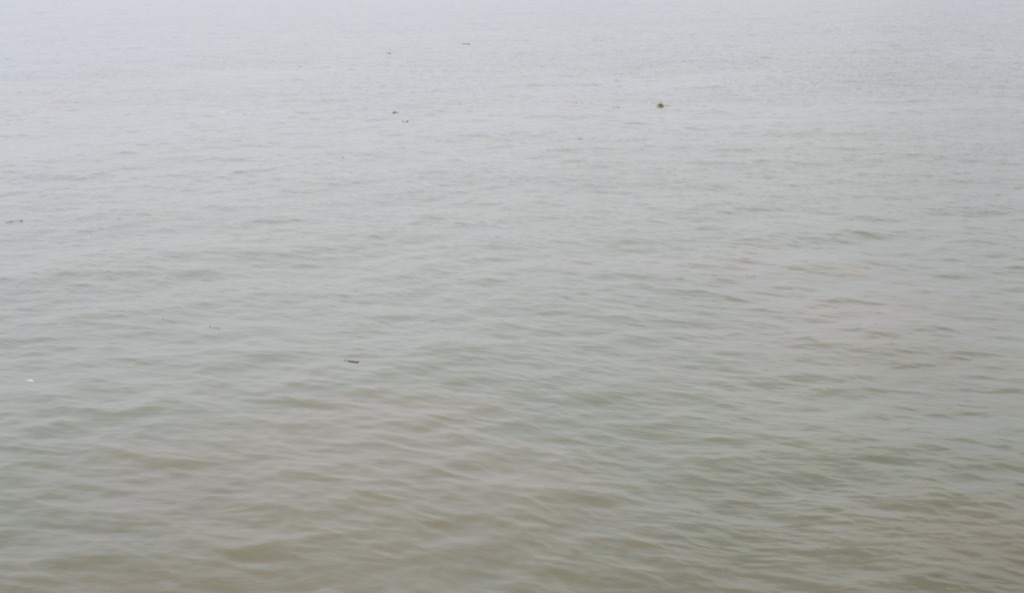organic: (645, 94, 673, 112), (340, 353, 363, 371), (1, 214, 30, 228), (395, 112, 419, 127), (571, 126, 585, 144), (455, 36, 473, 49), (382, 47, 398, 60), (386, 104, 402, 116)
plastic: (24, 374, 37, 386)
